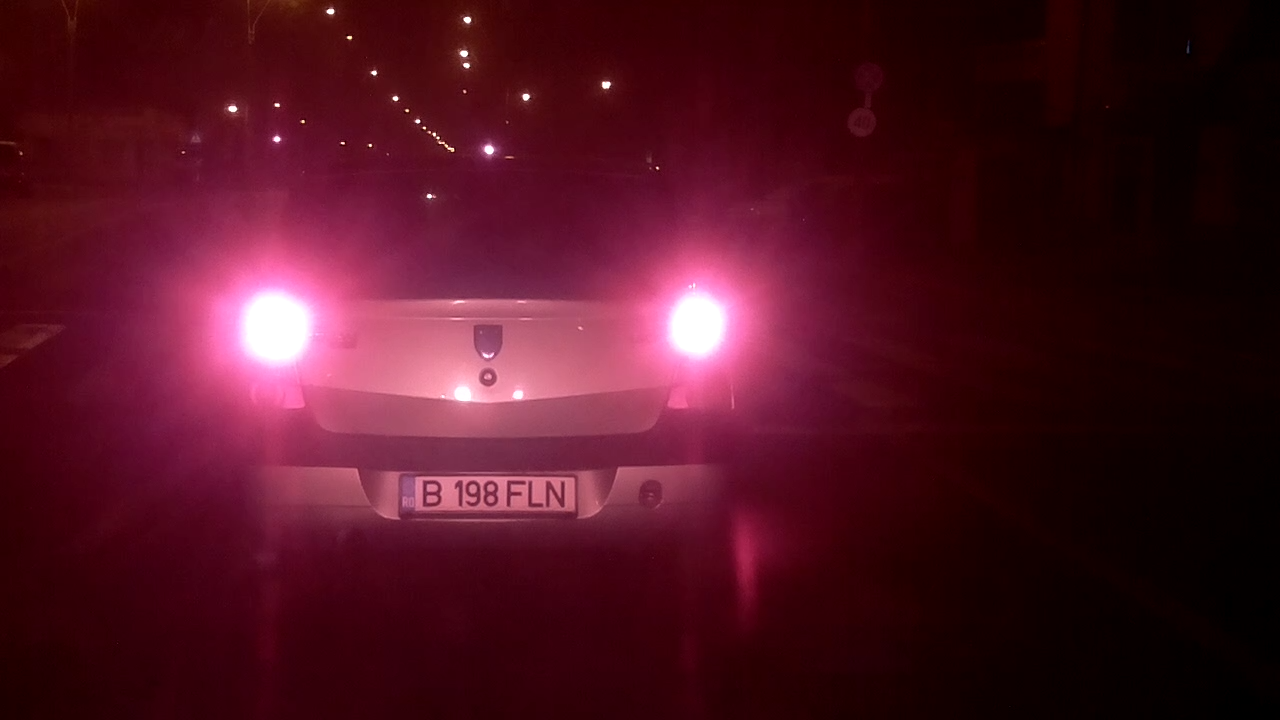license-plate: (394, 466, 583, 522)
